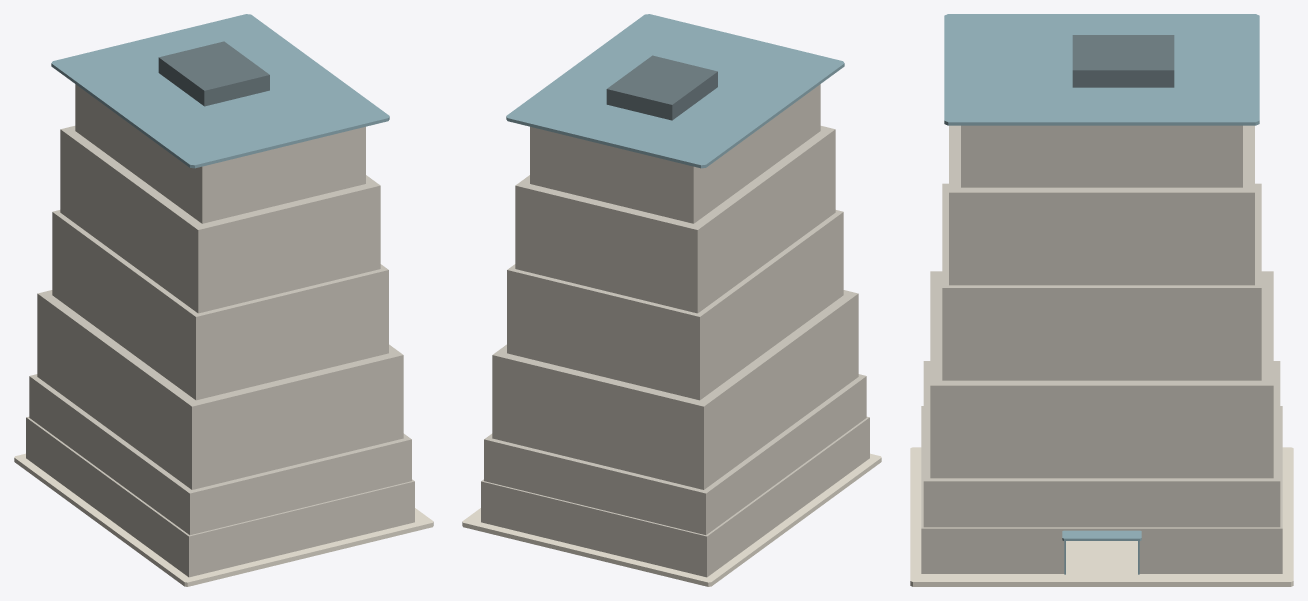
Rendered from Arcology_Terrace_10F_v4_ShadowProxy.glb.
3 views of the same model, side by side, from view 1: azimuth 30°, elevation 25°; view 2: azimuth 150°, elevation 25°; view 3: azimuth 270°, elevation 25° (orthographic). The views are drawn at different scales.
Visible parts, largest first — view 1: Arcology_Terrace_10F_v4_ShadowProxy / Structure, Arcology_Terrace_10F_v4_ShadowProxy / Roof, Arcology_Terrace_10F_v4_ShadowProxy / Foundation; view 2: Arcology_Terrace_10F_v4_ShadowProxy / Structure, Arcology_Terrace_10F_v4_ShadowProxy / Roof, Arcology_Terrace_10F_v4_ShadowProxy / Foundation; view 3: Arcology_Terrace_10F_v4_ShadowProxy / Structure, Arcology_Terrace_10F_v4_ShadowProxy / Roof, Arcology_Terrace_10F_v4_ShadowProxy / Foundation, Arcology_Terrace_10F_v4_ShadowProxy / Entrance modules.
Boxes of the visible parts, x1,y1,x2,y2 form: Arcology_Terrace_10F_v4_ShadowProxy / Structure: (26,84,414,577); Arcology_Terrace_10F_v4_ShadowProxy / Roof: (51,14,389,168); Arcology_Terrace_10F_v4_ShadowProxy / Foundation: (14,453,433,586); Arcology_Terrace_10F_v4_ShadowProxy / Structure: (481,84,869,577); Arcology_Terrace_10F_v4_ShadowProxy / Roof: (506,14,844,168); Arcology_Terrace_10F_v4_ShadowProxy / Foundation: (462,453,881,586); Arcology_Terrace_10F_v4_ShadowProxy / Structure: (921,125,1282,573); Arcology_Terrace_10F_v4_ShadowProxy / Roof: (944,14,1259,125); Arcology_Terrace_10F_v4_ShadowProxy / Foundation: (910,447,1293,586); Arcology_Terrace_10F_v4_ShadowProxy / Entrance modules: (1062,530,1141,574).
Bounding box in the file's own units: 20 × 32.28 × 24.
